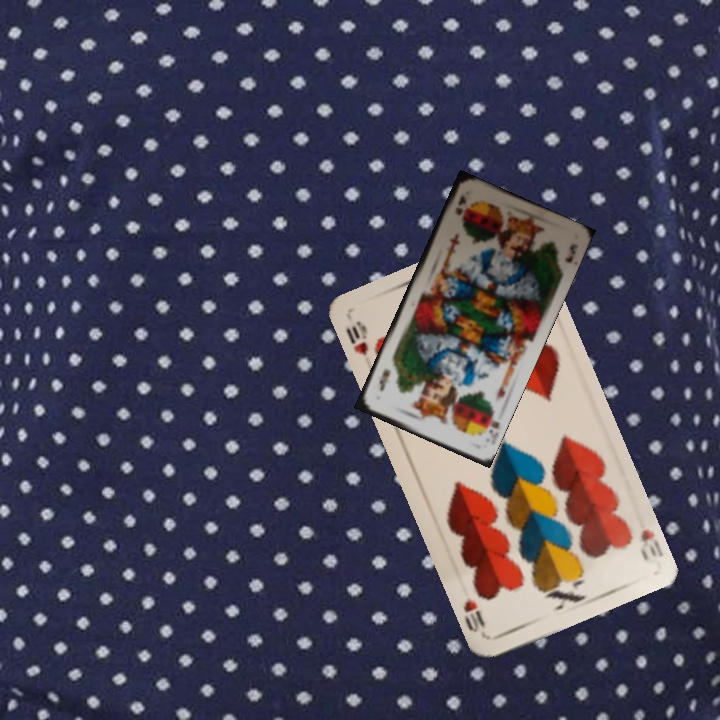H10: (341, 317, 371, 359), (636, 525, 666, 564)
SK: (477, 407, 503, 439), (451, 190, 468, 217)
